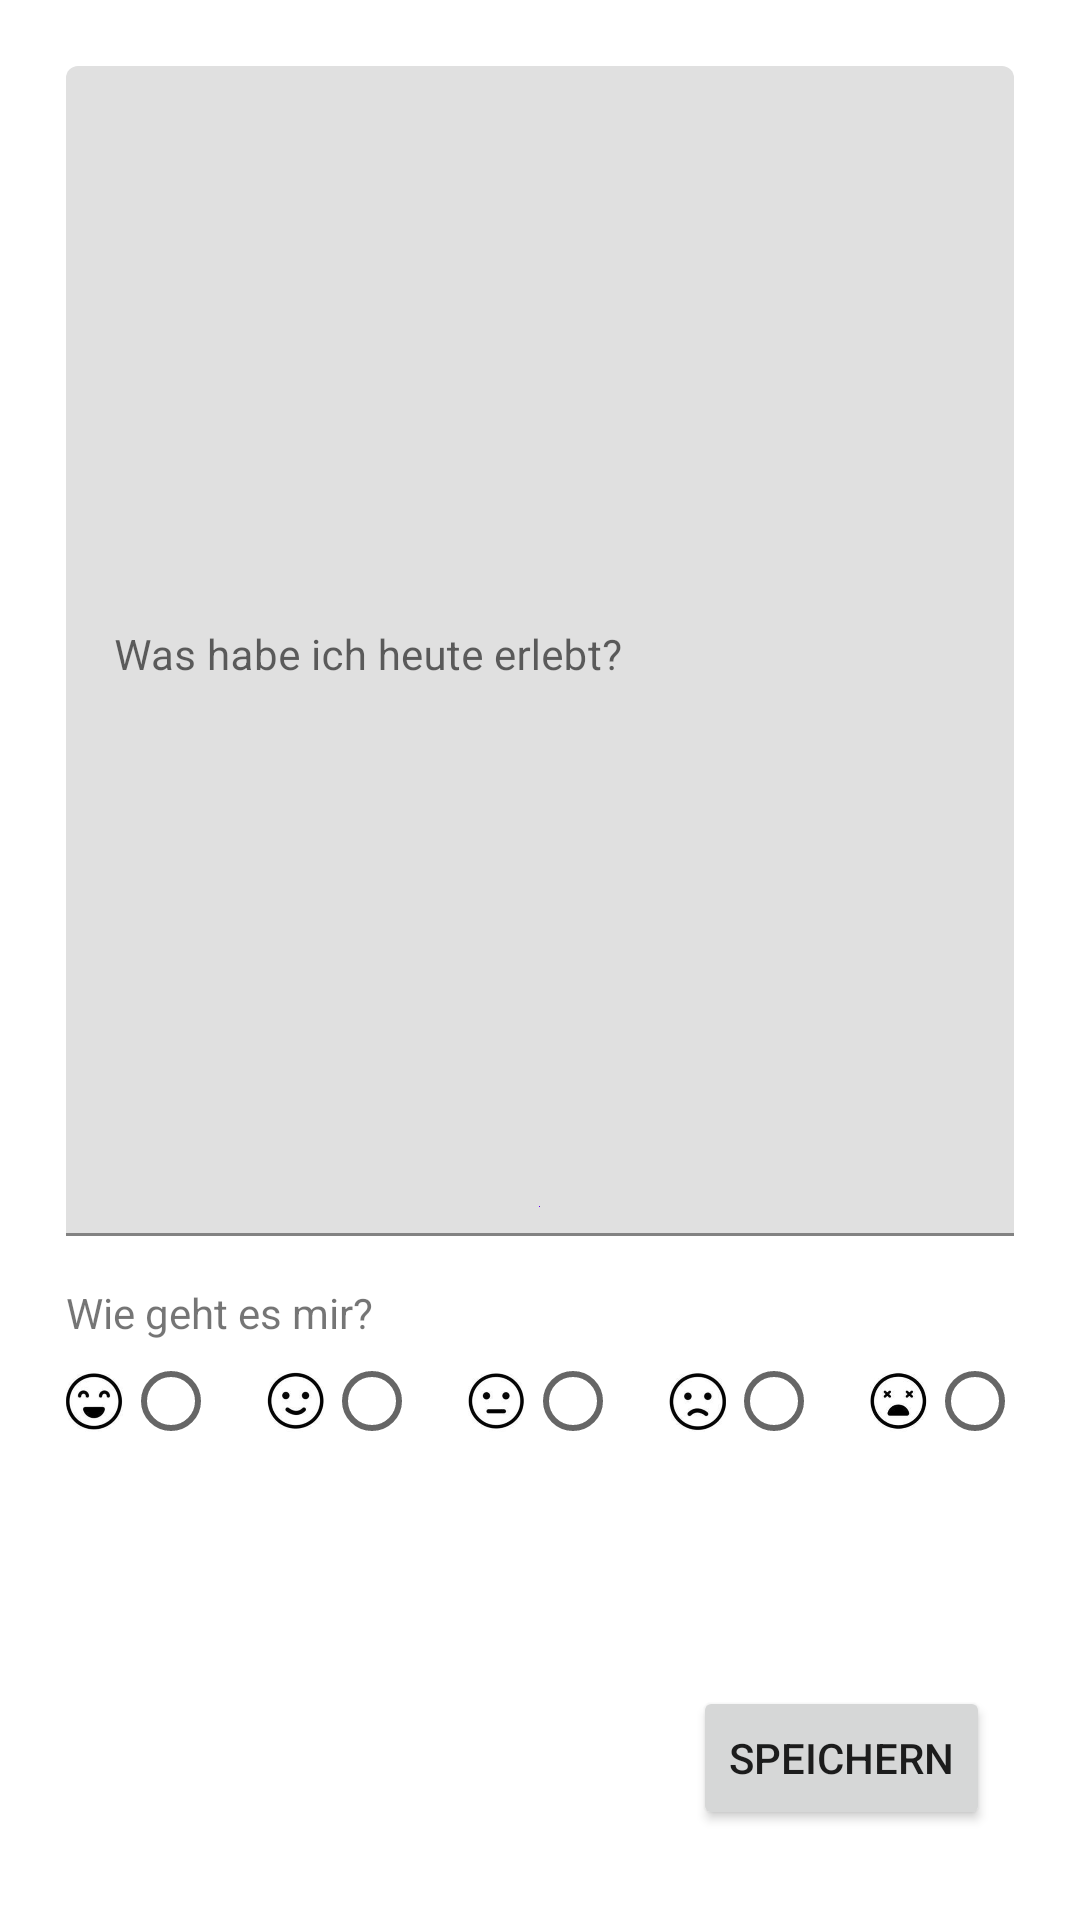

Icons on this 1080×1920 Android screen, each with its box as {"left": x1, "top": y1, "right": x2, "bottom": y2}:
bad: {"left": 669, "top": 1373, "right": 726, "bottom": 1430}
good: {"left": 267, "top": 1373, "right": 324, "bottom": 1429}
great: {"left": 66, "top": 1373, "right": 122, "bottom": 1430}
okay: {"left": 468, "top": 1373, "right": 524, "bottom": 1429}
terrible: {"left": 870, "top": 1373, "right": 927, "bottom": 1429}
